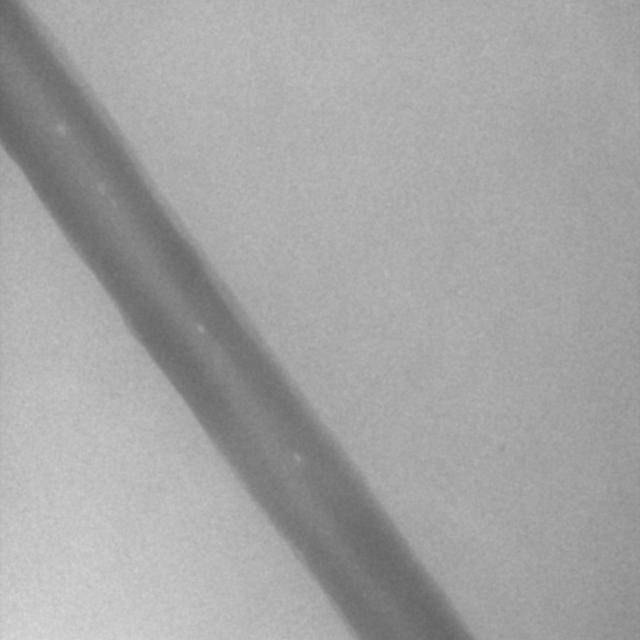air-hole: (53, 118, 71, 135), (293, 447, 303, 469), (96, 176, 106, 196), (195, 317, 207, 333), (107, 200, 117, 210)
